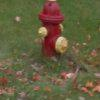Hydrant: (31, 0, 72, 70)
